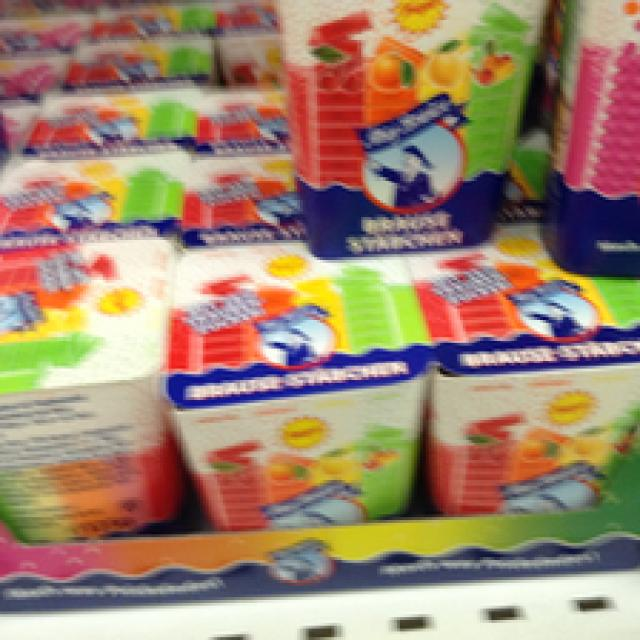groceries: (174, 234, 420, 543), (408, 232, 628, 534), (283, 3, 528, 260), (0, 246, 177, 540), (540, 0, 637, 249)
